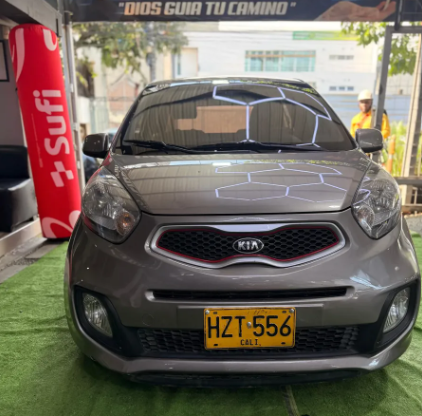placa: (205, 306, 296, 349)
